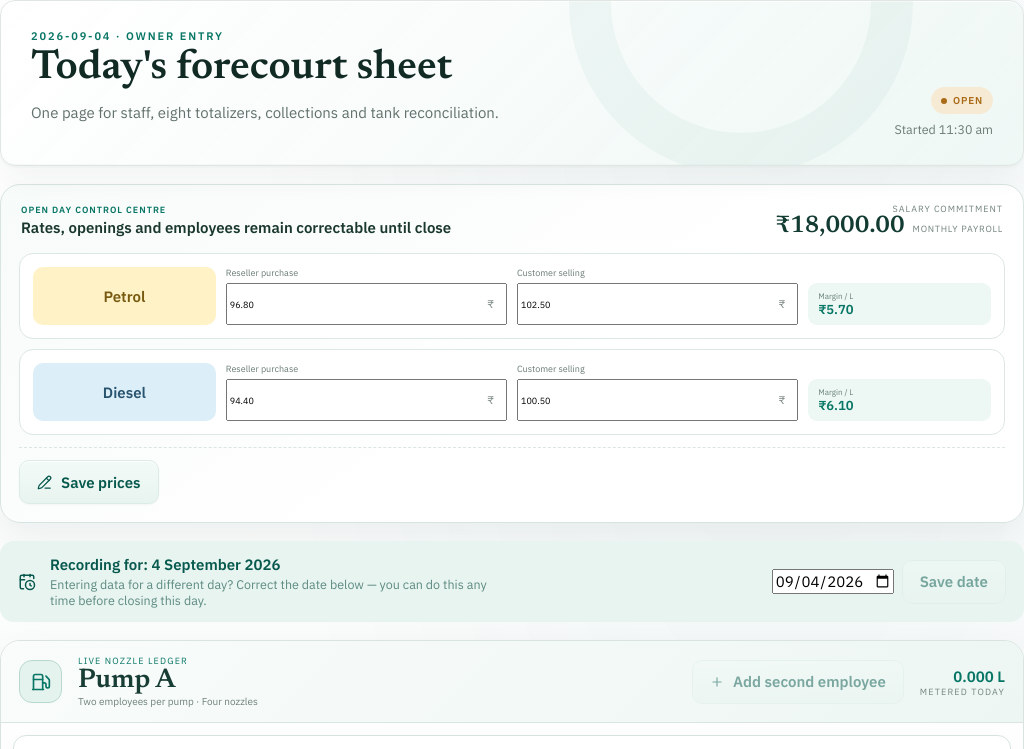
Test: DailyForecourtSheet › lets the owner correct an already-open day's business date at any time and saves it
Type "2026-09-03" into the date field named "Active business date". click: (833,582)
box: [772, 569, 894, 594]
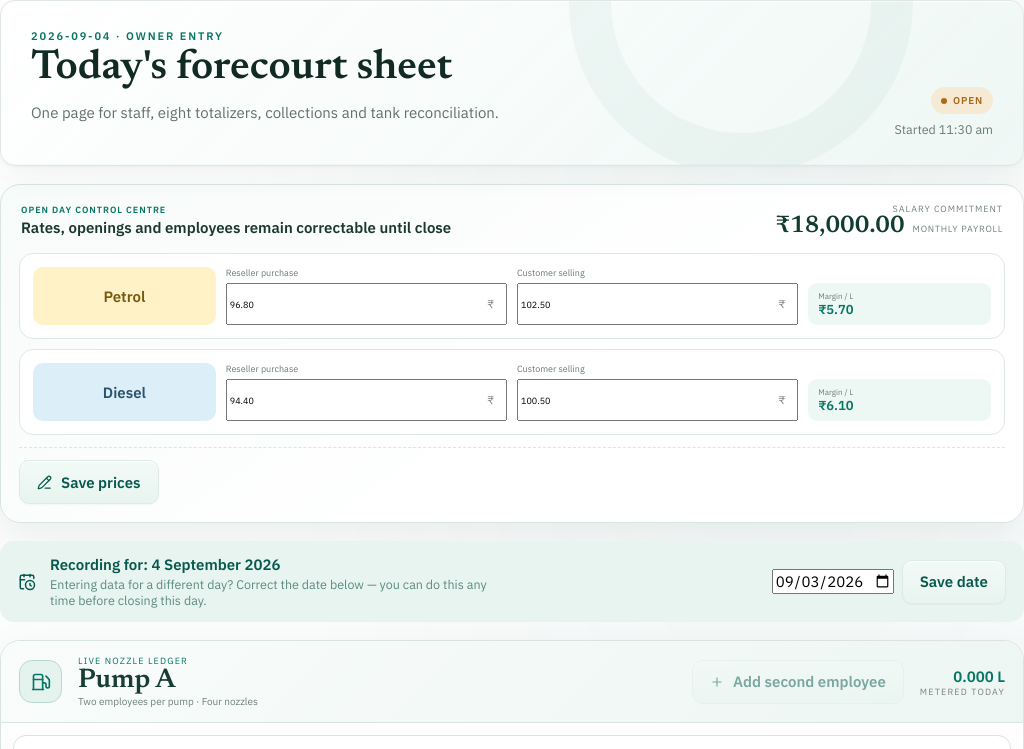
Check: the button "Save date" is enabled
Click the button "Save date". click: (954,582)
box: [902, 560, 1006, 604]
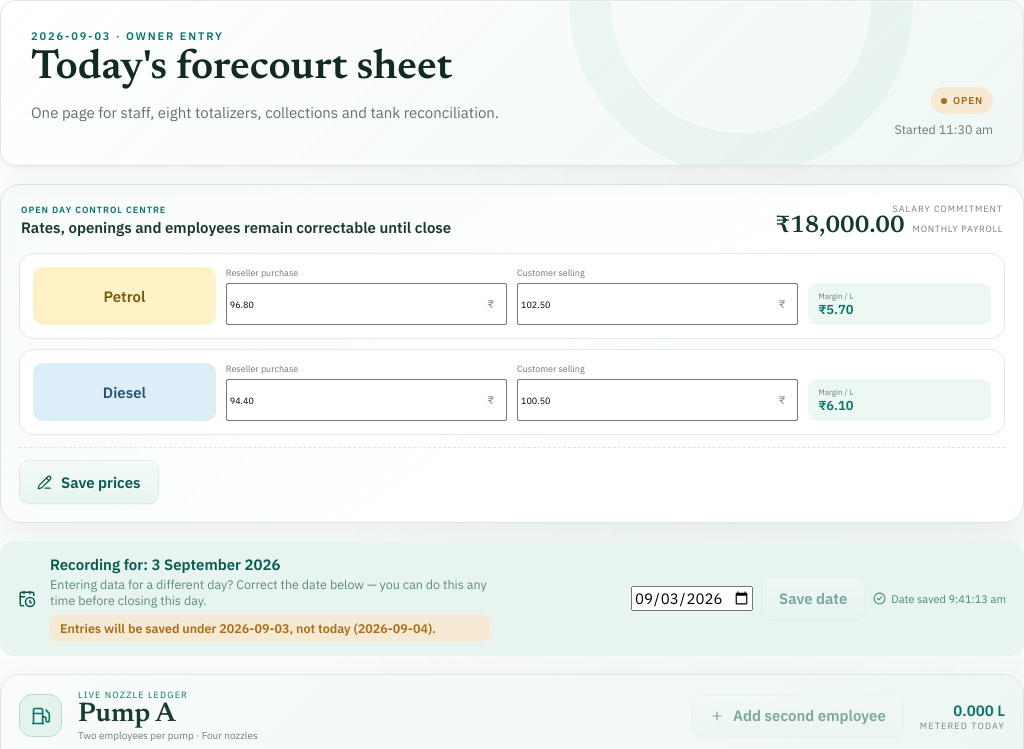
Check: the text "Date saved 9:41:13 am" is shown, box [873, 592, 1006, 606]
